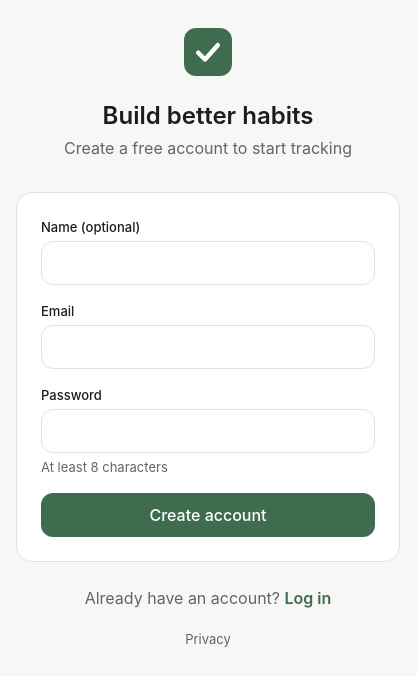
Scenario: signing up › checks the form before sending anything
Type "not-an-email" into the field labelled "Email" at (208, 347), box [41,325,375,369]
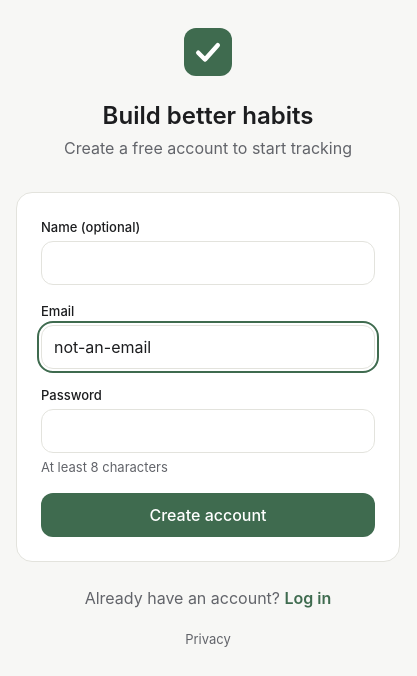
Type "short" into the password field labelled "Password" at (208, 431), box [41,409,375,453]
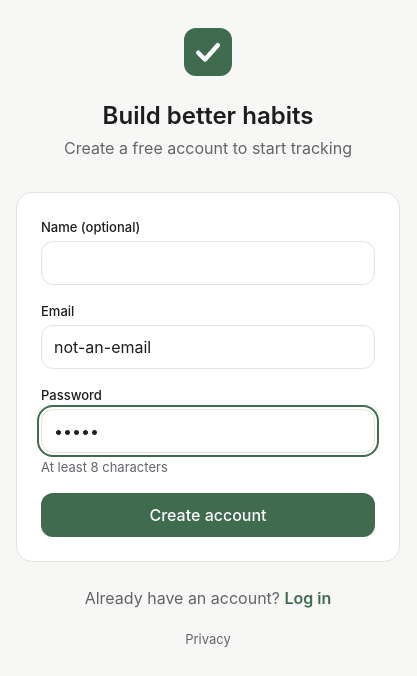
Click the button "Create account" at (208, 515), box [41,493,375,537]
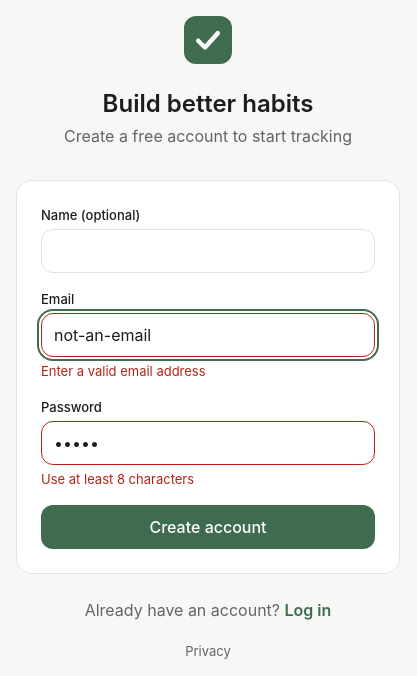
Check: the text "Enter a valid email address" is shown, box [41,363,206,379]
Check: the text "Use at least 8 characters" is shown, box [41,471,194,487]
